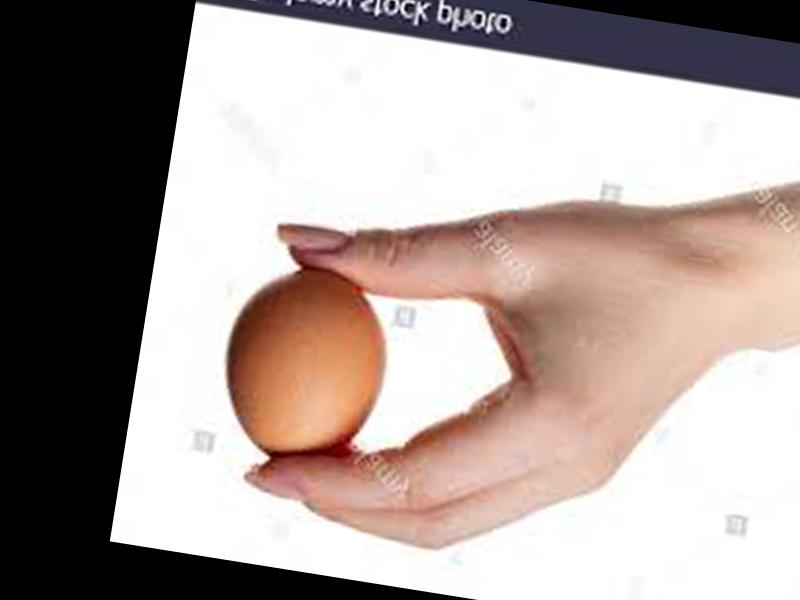Eggs: (214, 261, 401, 472)
